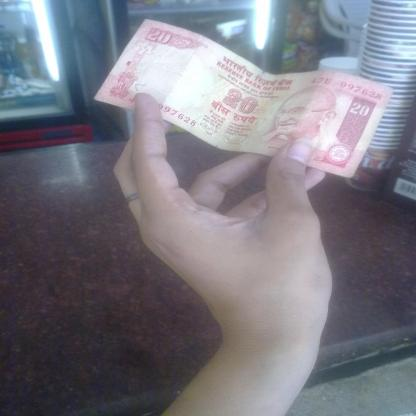Old20Front: (93, 19, 394, 178)
